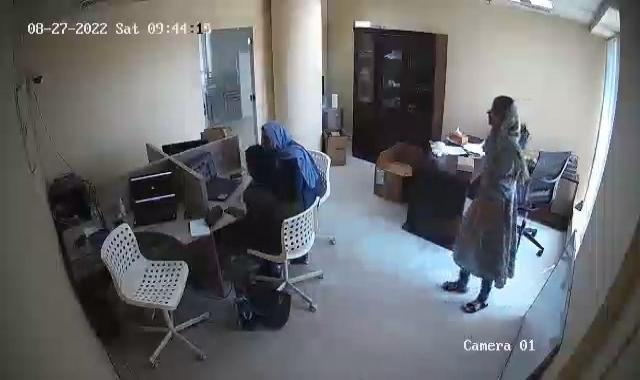no_hairnet: (481, 96, 519, 137), (243, 145, 277, 182), (262, 124, 288, 151)
